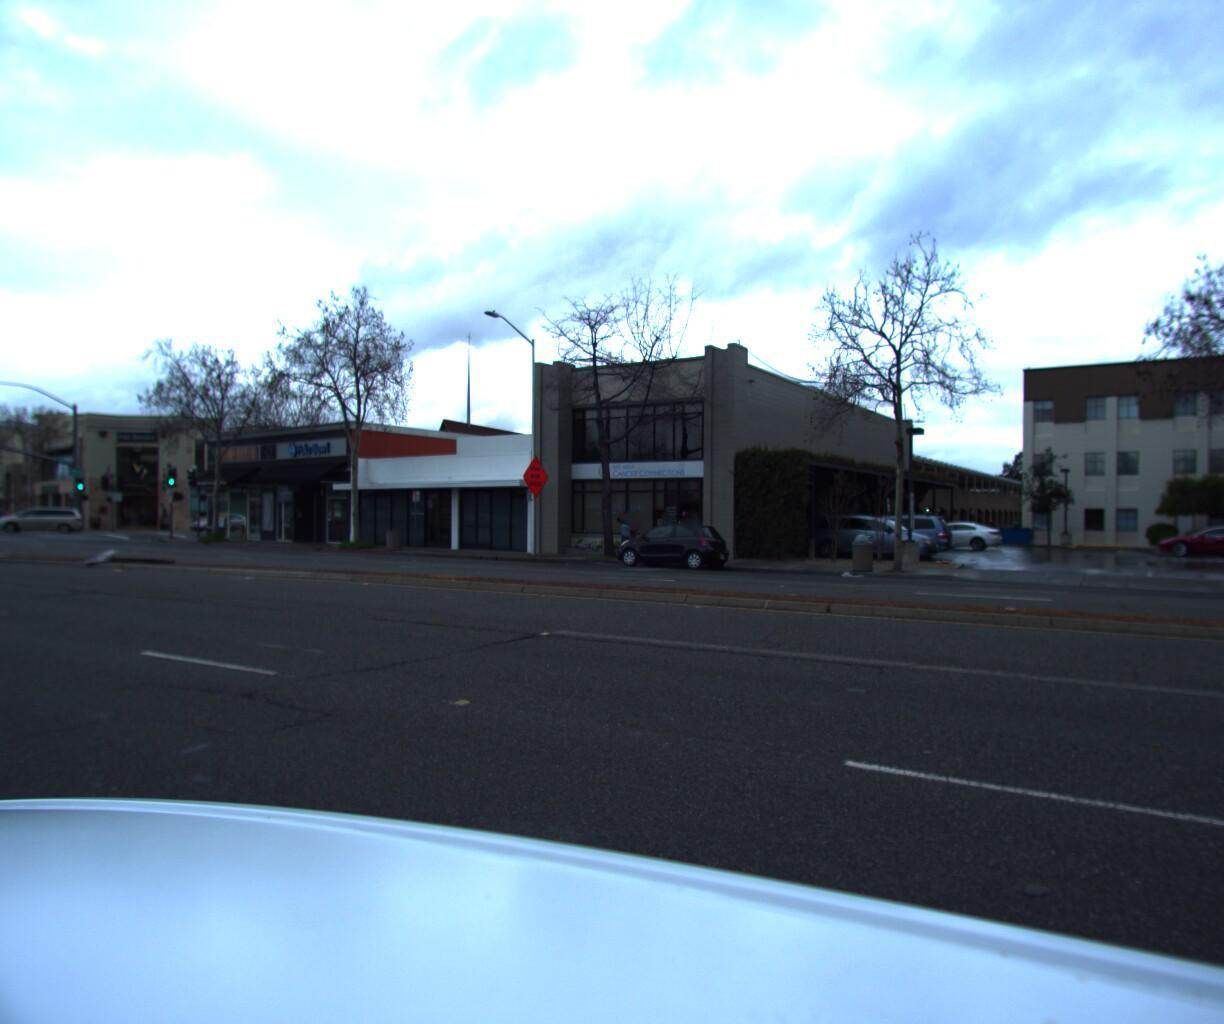car: (800, 514, 948, 569), (601, 523, 737, 578), (828, 515, 962, 568), (0, 508, 88, 533), (179, 511, 256, 533)
